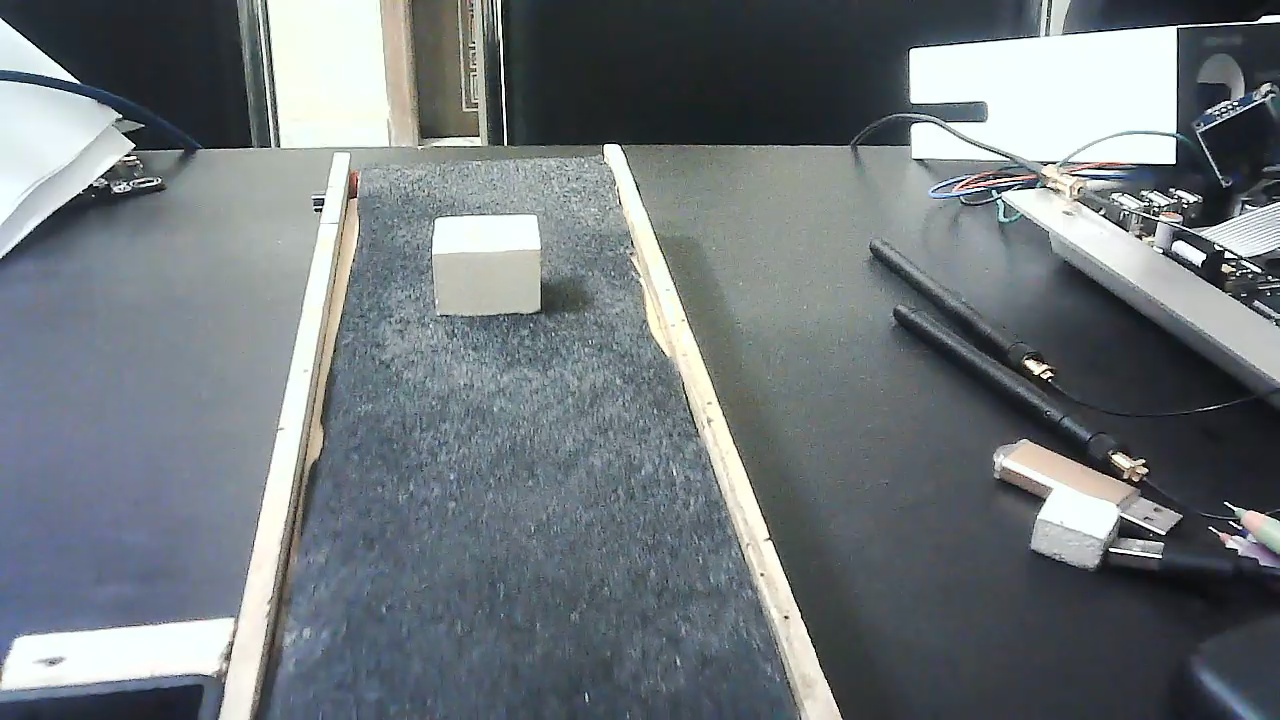Medium: (431, 210, 542, 321)
